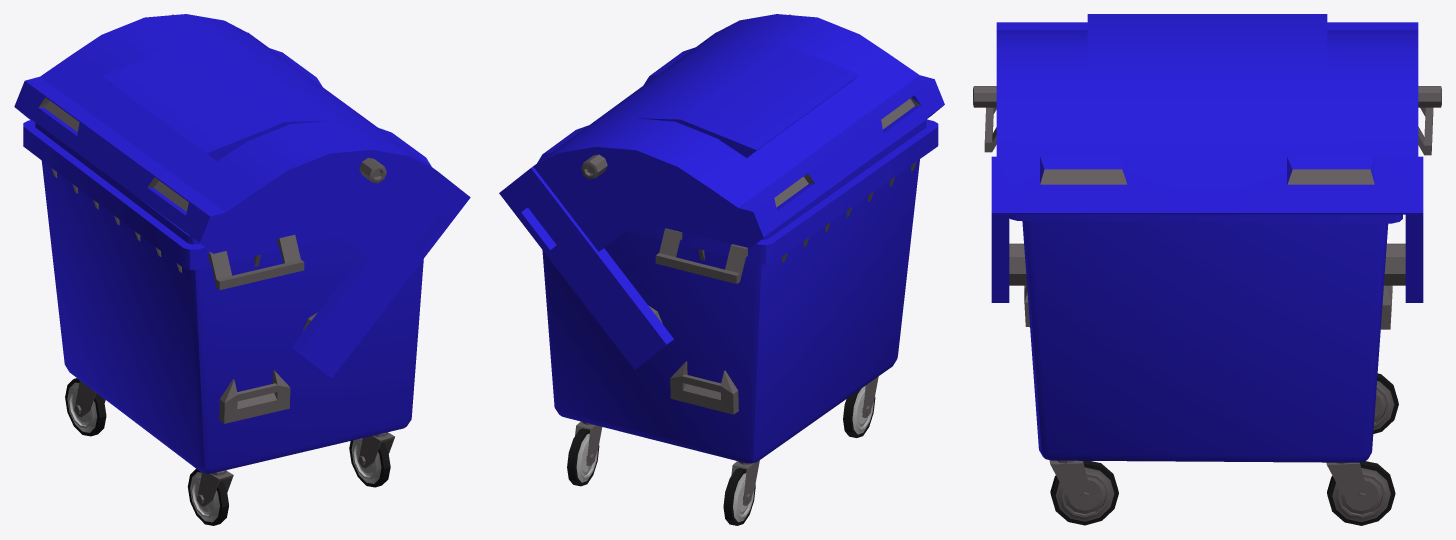
Rendered from DumpsterUniversal.glb.
The picture shows the model from 3 angles, left to right: view 1: azimuth 30°, elevation 25°; view 2: azimuth 150°, elevation 25°; view 3: azimuth 270°, elevation 25°; orthographic projection. The views are drawn at different scales.
Visible parts, largest first — view 1: Base, Top; view 2: Base, Top; view 3: Base, Top.
Boxes of the visible parts, x1,y1,x2,y2 form: Base: [23, 120, 423, 525]; Top: [14, 14, 470, 378]; Base: [542, 119, 938, 525]; Top: [499, 14, 944, 369]; Base: [984, 107, 1433, 525]; Top: [973, 14, 1441, 302].
Size of the model in its own units: 2.59 by 3.46 by 3.39.
